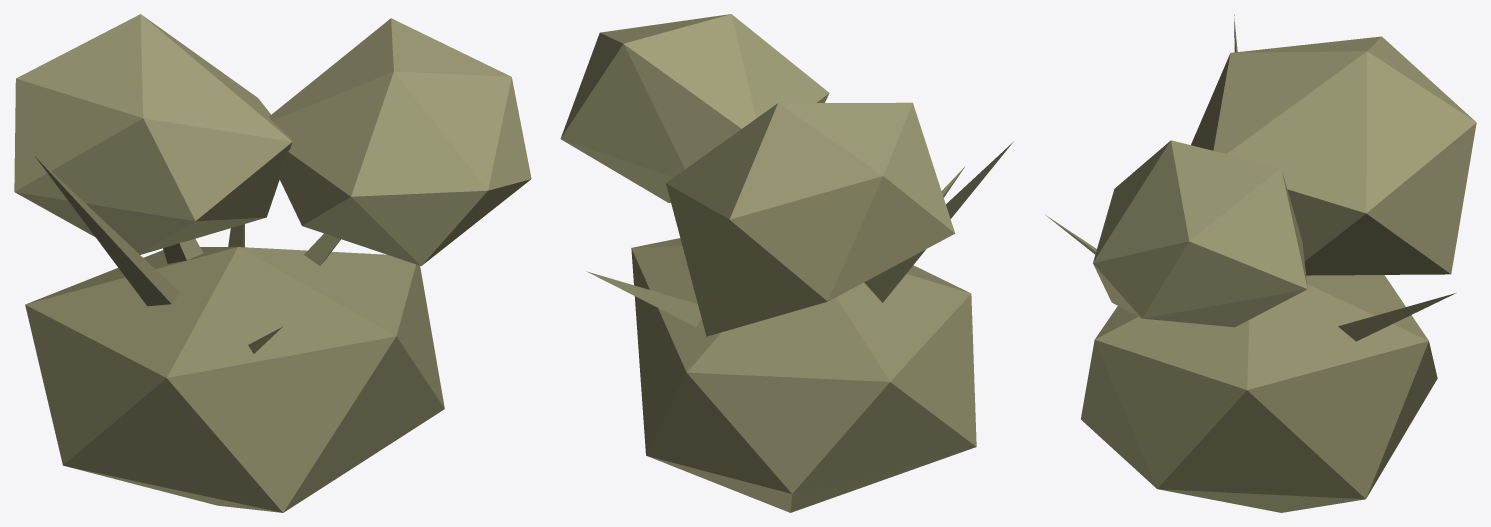
The model's file is scrub_8.glb.
3 views of the same model, side by side, from view 1: azimuth 30°, elevation 25°; view 2: azimuth 150°, elevation 25°; view 3: azimuth 270°, elevation 25° (orthographic). The views are drawn at different scales.
Parts seen in each view (by area): view 1: scrub_8.001; view 2: scrub_8.001; view 3: scrub_8.001.
Boxes of the visible parts, left/top/right/bottom form: scrub_8.001: left=14, top=14, right=531, bottom=512; scrub_8.001: left=560, top=14, right=1013, bottom=512; scrub_8.001: left=1046, top=14, right=1476, bottom=512.
Size of the model in its own units: 0.8841 by 0.8674 by 0.7626.
